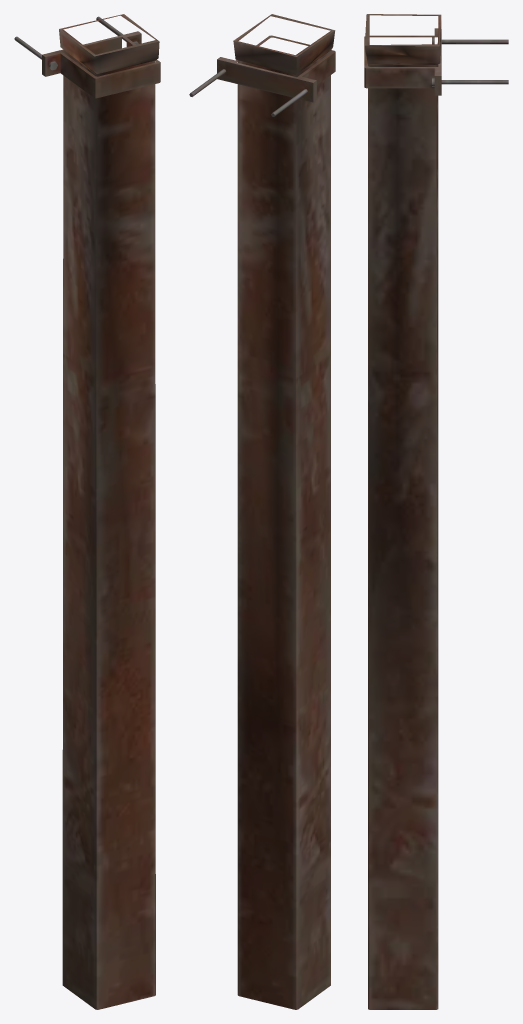
Rendered from gutter_150.glb.
3 views of the same model, side by side, from view 1: azimuth 30°, elevation 25°; view 2: azimuth 150°, elevation 25°; view 3: azimuth 270°, elevation 25° (orthographic).
Parts seen in each view (by area): view 1: gutter_150, gutter_wall_connector; view 2: gutter_150, gutter_wall_connector; view 3: gutter_150, gutter_wall_connector.
Part boxes in pixels (x1,y1,x2,y2): gutter_150: (59, 14, 159, 1009); gutter_wall_connector: (14, 16, 160, 98); gutter_150: (233, 14, 335, 1009); gutter_wall_connector: (189, 35, 335, 116); gutter_150: (364, 14, 441, 1009); gutter_wall_connector: (364, 28, 508, 95).
Bounding box in the file's own units: 0.16 × 1.52 × 0.205.
Materials: 1 (1 with a texture image).
